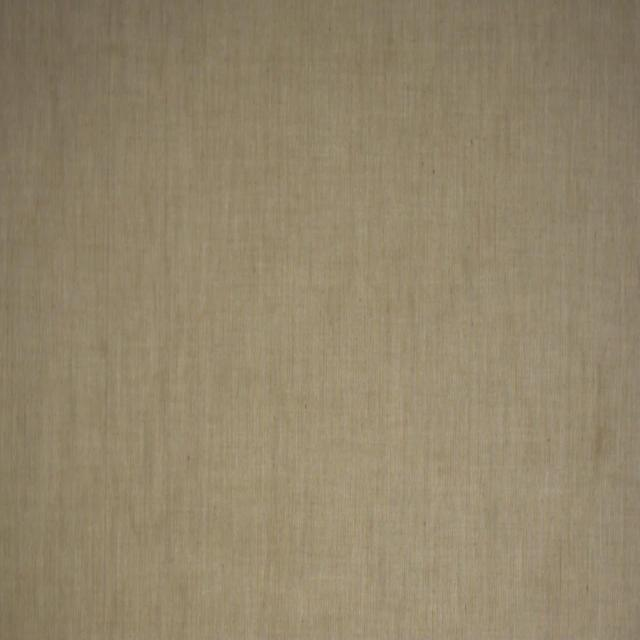dirty: (591, 426, 605, 464)
